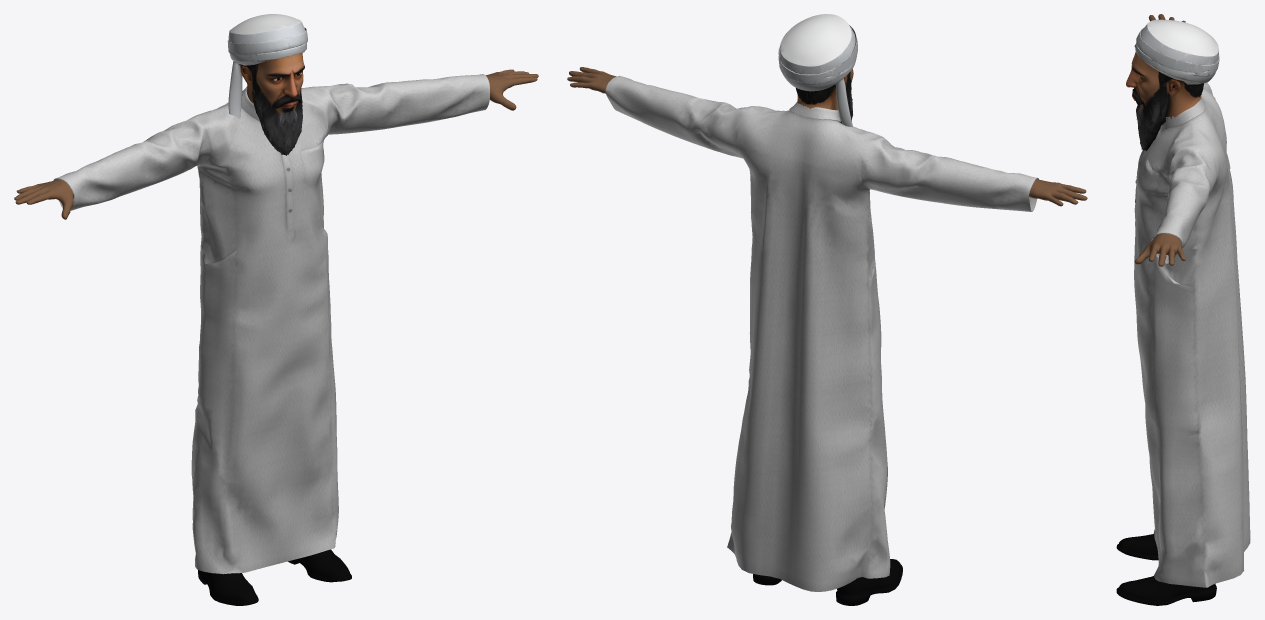
File: osama_bin_laden.glb
3 views of the same model, side by side, from view 1: azimuth 30°, elevation 25°; view 2: azimuth 150°, elevation 25°; view 3: azimuth 270°, elevation 25° (orthographic).
Parts seen in each view (by area): view 1: model; view 2: model; view 3: model.
Boxes of the visible parts, x1,y1,x2,y2 form: model: (14, 14, 538, 605); model: (567, 14, 1087, 605); model: (1116, 14, 1250, 605).
Bounding box in the file's own units: 4.31 × 4.42 × 0.9742.
Materials: 3 (2 with a texture image).
